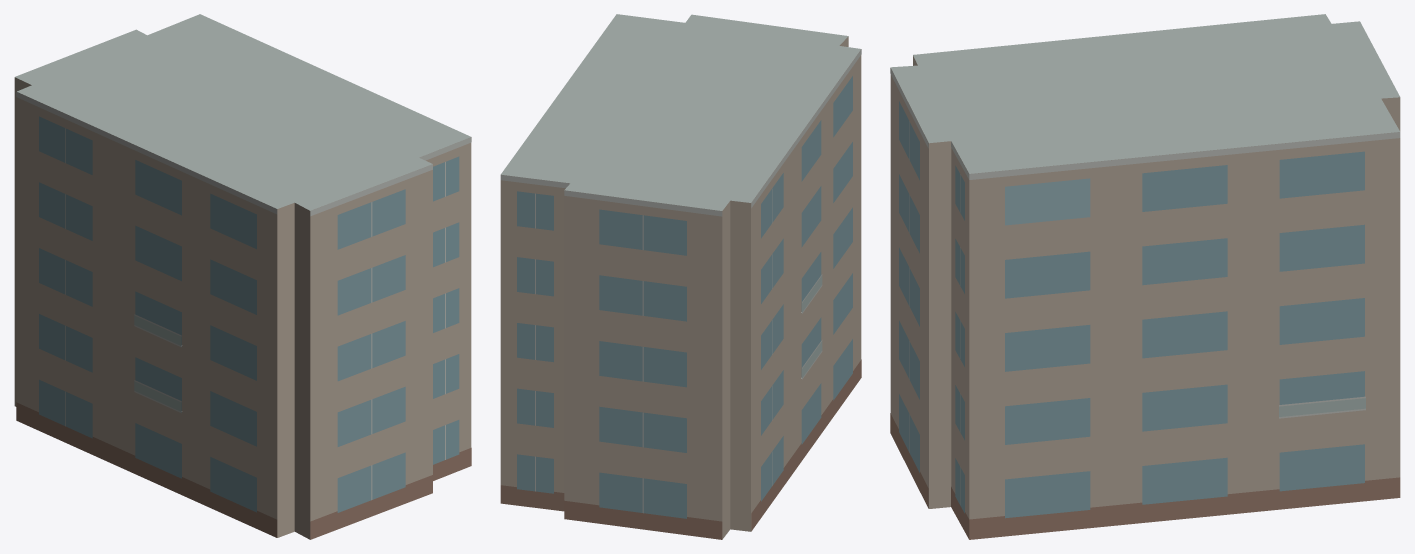
The model's file is survey-upis-32970375.glb.
3 views of the same model, side by side, from view 1: azimuth 30°, elevation 25°; view 2: azimuth 150°, elevation 25°; view 3: azimuth 270°, elevation 25° (orthographic). The views are drawn at different scales.
Visible parts, largest first — view 1: survey-upis-32970375.tmp; view 2: survey-upis-32970375.tmp; view 3: survey-upis-32970375.tmp.
Part boxes in pixels (<box>): survey-upis-32970375.tmp: <box>14,14,471,539</box>; survey-upis-32970375.tmp: <box>500,14,861,539</box>; survey-upis-32970375.tmp: <box>890,14,1400,539</box>.
Size of the model in its own units: 13.6 by 14.5 by 18.32.
